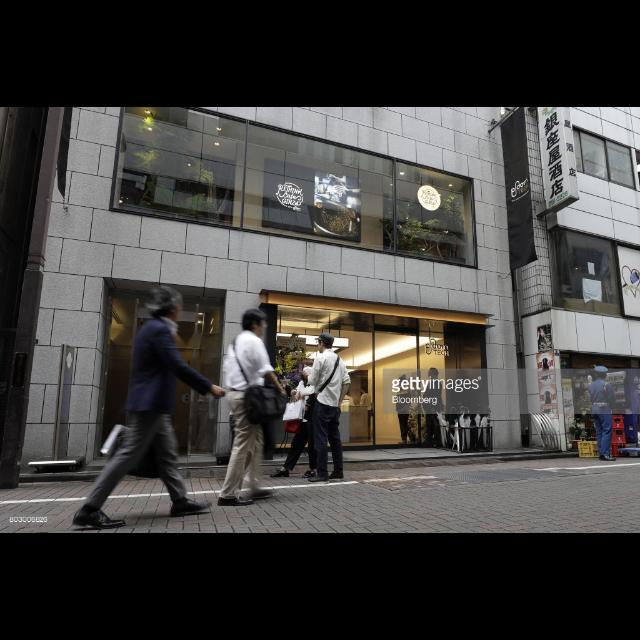head: (154, 287, 182, 321), (242, 308, 268, 338), (318, 336, 334, 354), (302, 361, 316, 377), (595, 371, 609, 382), (428, 368, 439, 380), (362, 387, 368, 395), (343, 390, 349, 396)
person: (216, 307, 292, 509), (300, 332, 354, 486), (268, 359, 329, 481), (586, 365, 620, 463), (420, 367, 448, 451), (358, 386, 376, 444), (339, 388, 357, 438)
